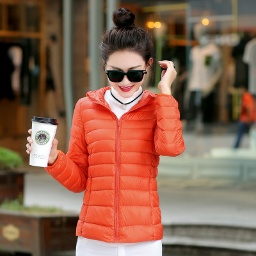face: (98, 5, 158, 101)
